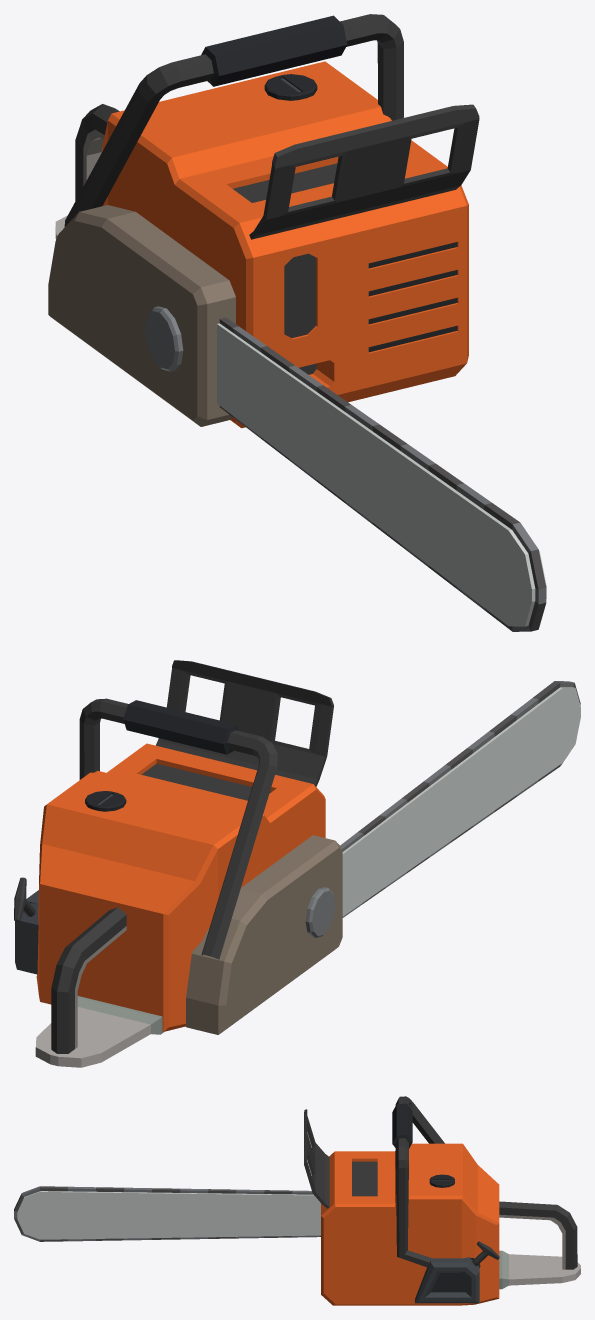
The model's file is Chainsaw_1.fbx.
3 renders of one model, top to bottom at view 1: azimuth 30°, elevation 25°; view 2: azimuth 150°, elevation 25°; view 3: azimuth 270°, elevation 25°, orthographic. The views are drawn at different scales.
Visible parts, largest first — view 1: Chainsaw_1; view 2: Chainsaw_1; view 3: Chainsaw_1.
Boxes of the visible parts, x1=… form: Chainsaw_1: x1=48, y1=14, x2=546, y2=631; Chainsaw_1: x1=14, y1=660, x2=580, y2=1067; Chainsaw_1: x1=14, y1=1096, x2=580, y2=1305.
Size of the model in its own units: 60.7 by 64.46 by 207.
